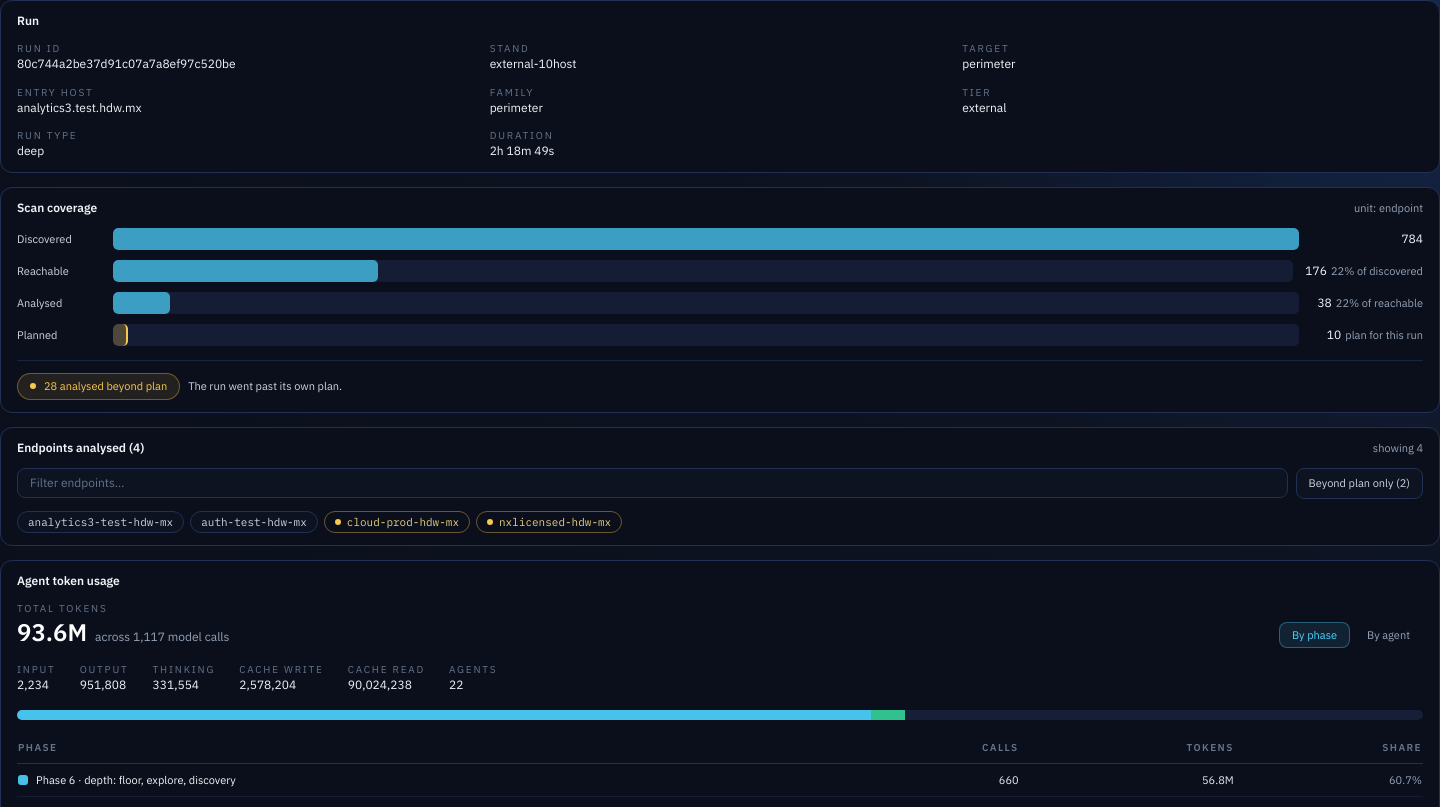
it: expanded panels › labels an unnamed phase by its number and switches to the agent breakdown
Expected: the text "Phase 6 · depth: floor, explore, discovery" is shown, [36, 772, 236, 788]
Click the tab "By agent" at (1389, 635), box [1354, 622, 1423, 648]
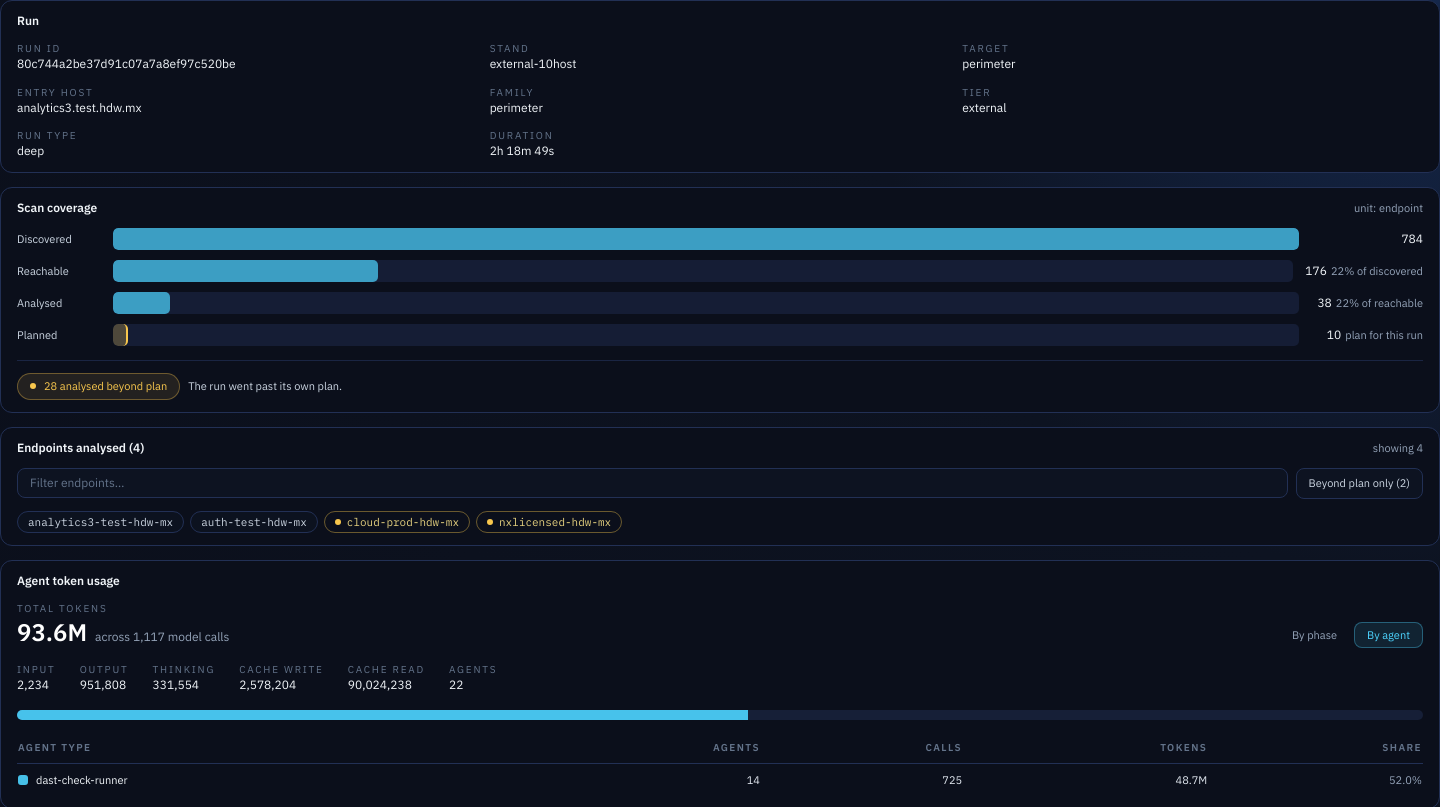
Now the text "dast-check-runner" is shown, box [36, 772, 128, 788]
